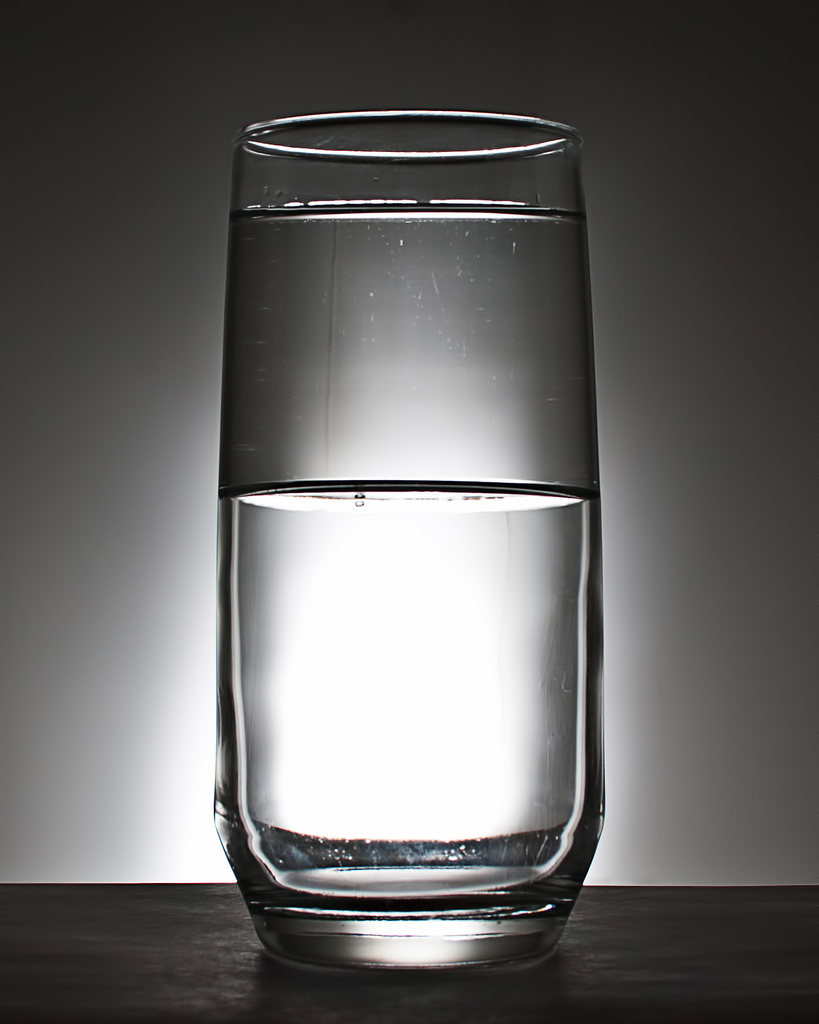glass of water: (212, 117, 607, 942)
